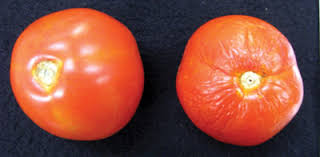tomato: (9, 7, 145, 142), (176, 13, 305, 146)
